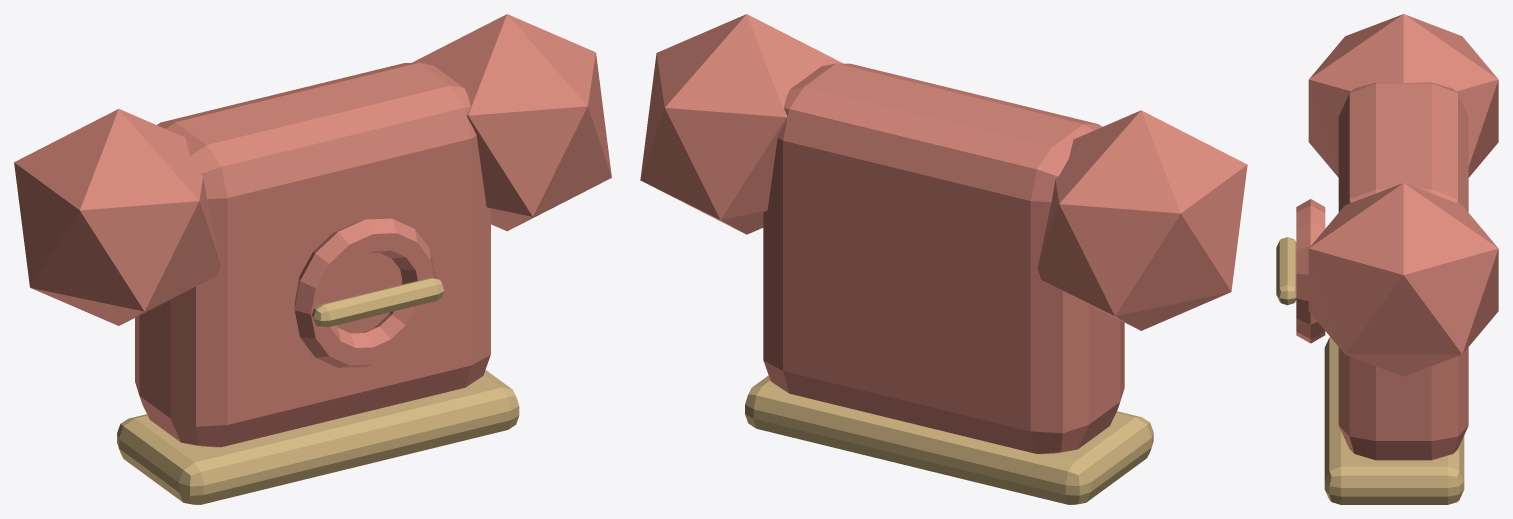
File: arm_relay_armor.glb
3 renders of one model, left to right at view 1: azimuth 30°, elevation 25°; view 2: azimuth 150°, elevation 25°; view 3: azimuth 270°, elevation 25°, orthographic. The views are drawn at different scales.
Parts seen in each view (by area): view 1: arm_relay_armor; view 2: arm_relay_armor; view 3: arm_relay_armor.
Part boxes in pixels (x1,y1,x2,y2): arm_relay_armor: [14, 14, 611, 504]; arm_relay_armor: [640, 14, 1247, 504]; arm_relay_armor: [1276, 14, 1498, 504].
Bounding box in the file's own units: 1.25 × 0.805 × 0.4782.
